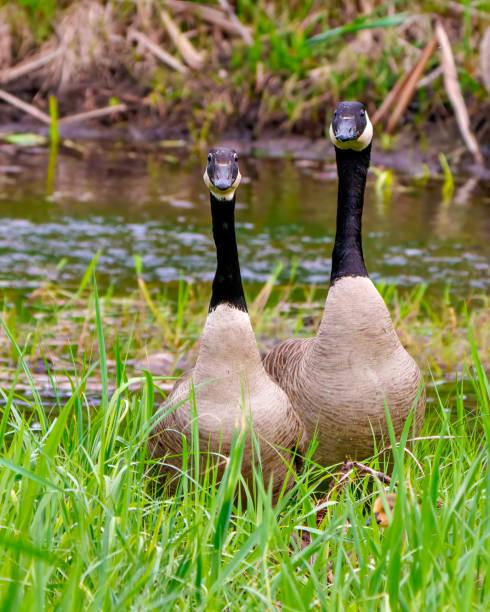Canadian-Goose: (278, 94, 429, 470), (138, 146, 296, 486)
